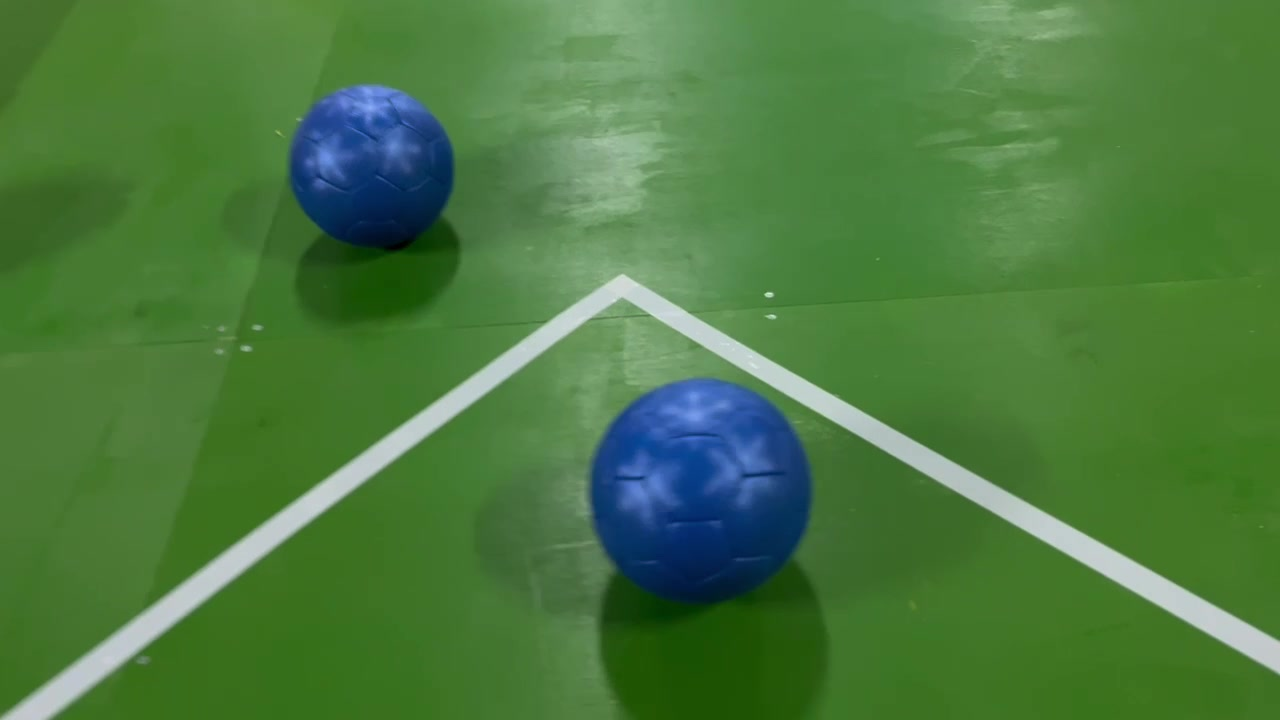blue: (581, 385, 808, 604), (284, 79, 458, 259)
